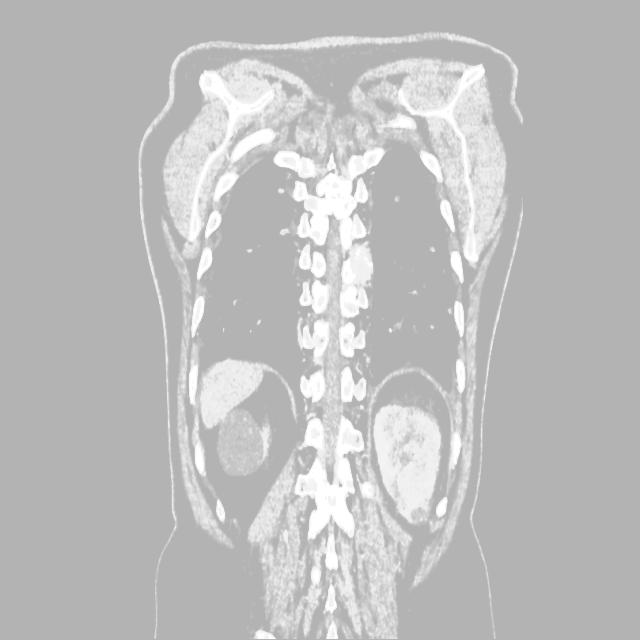TUMOR: (132, 295, 567, 588)
